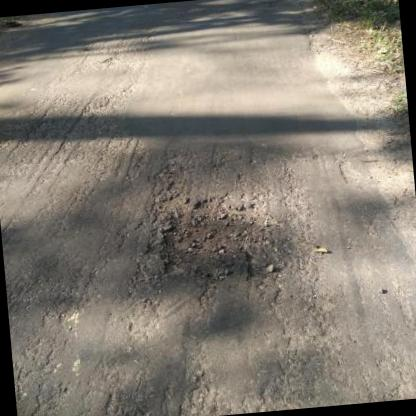pothole: (151, 188, 281, 288)
